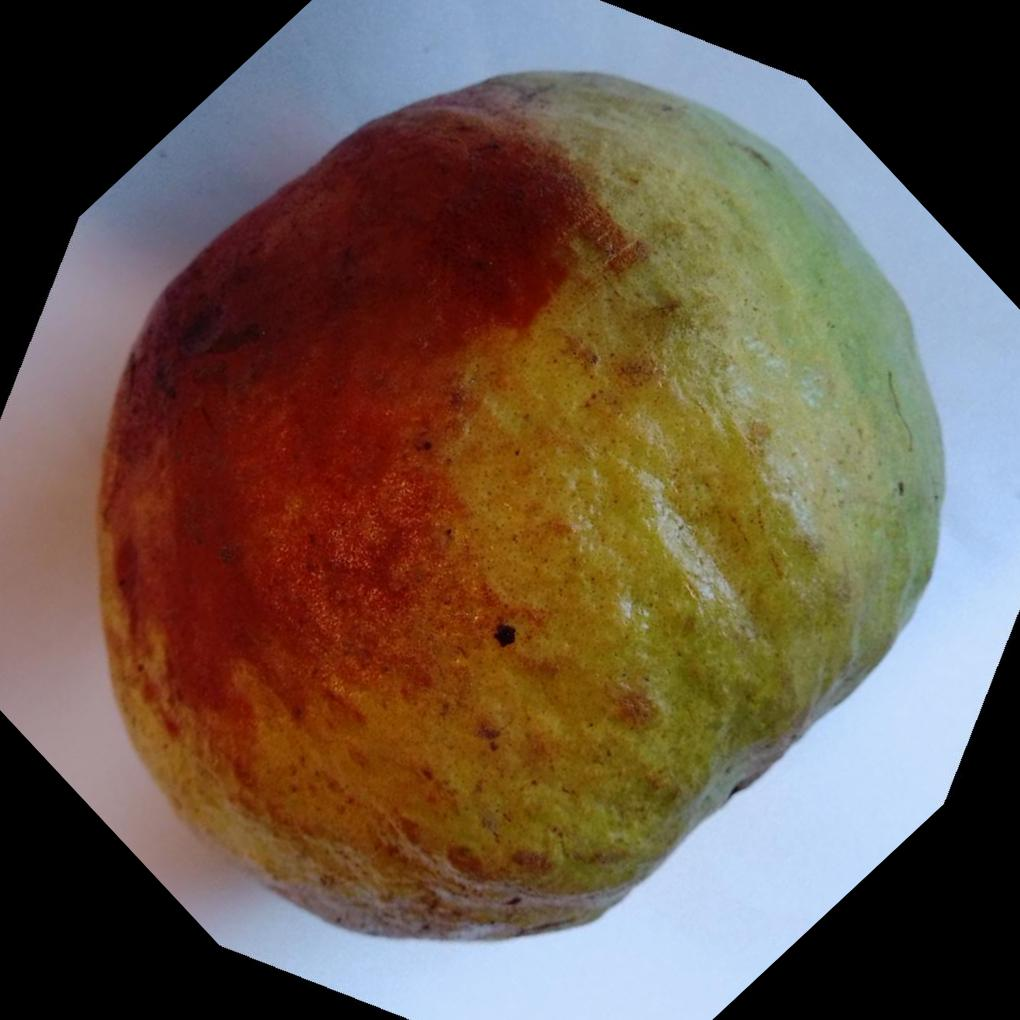FreshOrange: (93, 63, 945, 941)
